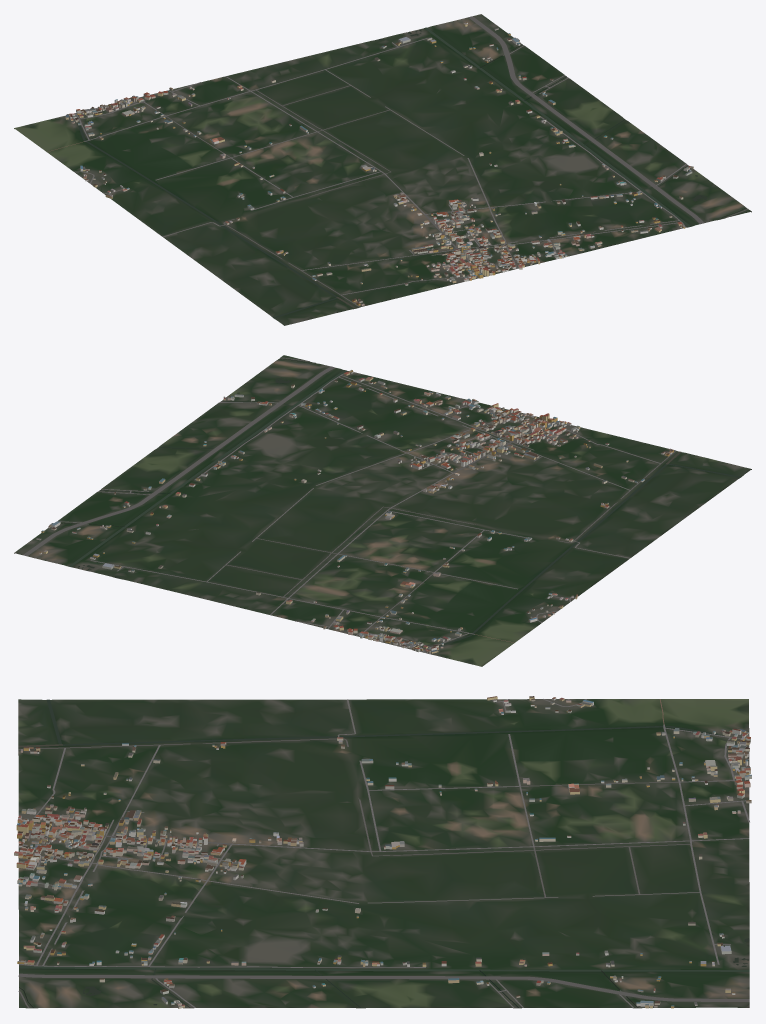
3 renders of one model, top to bottom at view 1: azimuth 30°, elevation 25°; view 2: azimuth 150°, elevation 25°; view 3: azimuth 270°, elevation 25°, orthographic. The views are drawn at different scales.
Parts seen in each view (by area): view 1: ground, buildings, roads, water; view 2: ground, buildings, roads, water; view 3: ground, buildings, roads, water.
Part boxes in pixels (x1=…): ground: x1=14, y1=14, x2=751, y2=325; buildings: x1=65, y1=22, x2=693, y2=305; roads: x1=47, y1=16, x2=747, y2=307; water: x1=77, y1=27, x2=746, y2=318; ground: x1=14, y1=355, x2=751, y2=666; buildings: x1=36, y1=370, x2=673, y2=653; roads: x1=23, y1=357, x2=675, y2=653; water: x1=61, y1=359, x2=740, y2=645; ground: x1=18, y1=699, x2=749, y2=1008; buildings: x1=14, y1=696, x2=751, y2=1008; roads: x1=18, y1=699, x2=749, y2=1007; water: x1=18, y1=699, x2=749, y2=1007.
Bounding box in the file's own units: 1410 × 20.74 × 1416.
